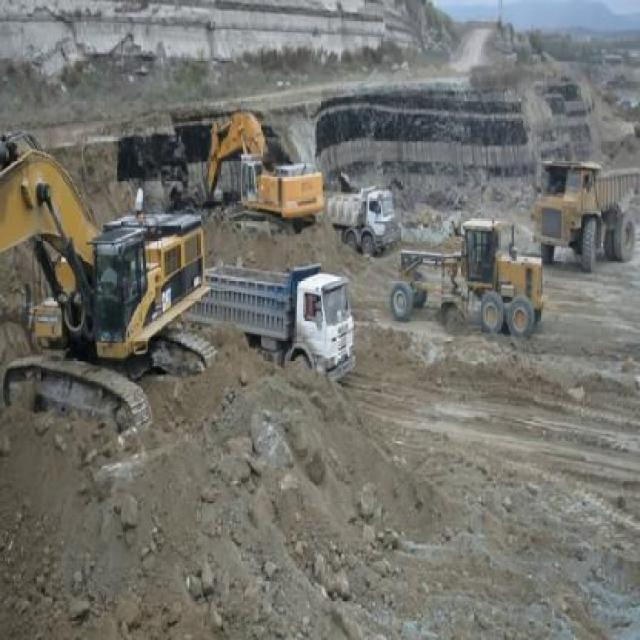Dump Truck: (196, 262, 358, 387), (534, 158, 637, 270)
Excavator: (1, 133, 216, 436), (188, 108, 323, 237)
Grader: (388, 219, 546, 338)
